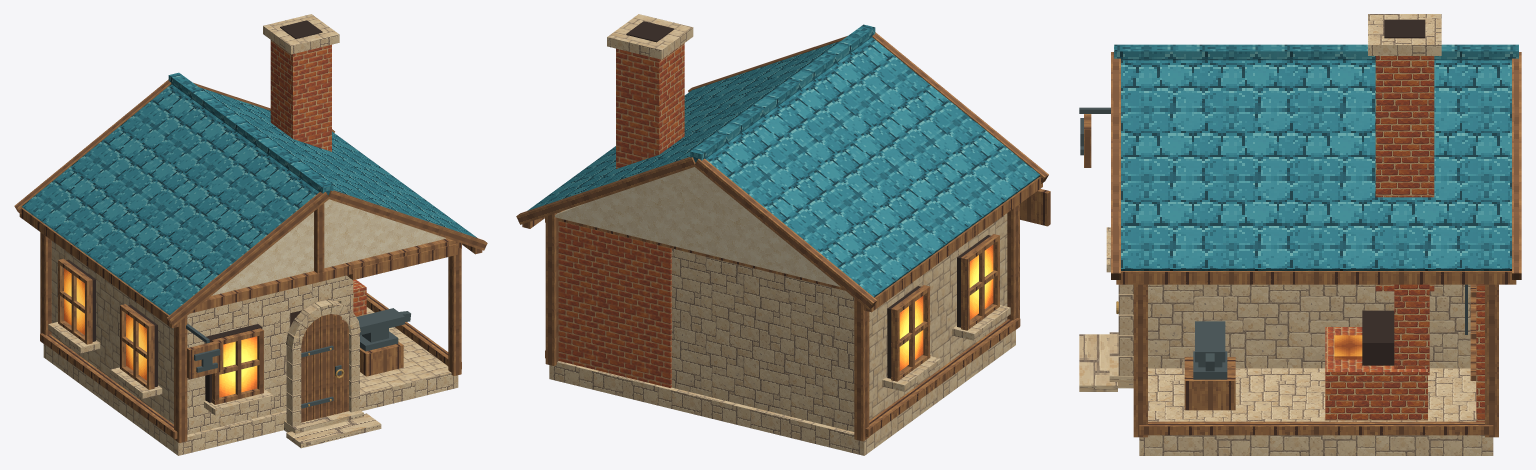
3 views of the same model, side by side, from view 1: azimuth 30°, elevation 25°; view 2: azimuth 150°, elevation 25°; view 3: azimuth 270°, elevation 25° (orthographic). The views are drawn at different scales.
Visible parts, largest first — view 1: Painted tiled roof, Smithy stone hall, Dressed limestone footing, Infilled gable, Painted tiled roof.001, Brick flue, Gable collar, Tile ridge cap, Oak bargeboard, Shop side timber band, Eave fascia, Oak bargeboard.002 (+27 smaller); view 2: Painted tiled roof, Smithy stone hall, Smithy open bay back, Infilled gable.001, Dressed limestone footing, Painted tiled roof.001, Brick flue, Tile ridge cap, Oak bargeboard.001, Shop side timber band, Eave fascia, Oak bargeboard.003 (+15 smaller); view 3: Painted tiled roof.001, Smithy stone hall, Dressed limestone footing, Brick flue, Forge firebrick base, Tile ridge cap, Eave fascia.001, Shop side timber band.002, Forge chimney breast, Chimney cap, Oak bargeboard.002, Oak bargeboard.003 (+11 smaller).
Boxes of the visible parts, <box> form: Painted tiled roof: <box>22,84,319,314</box>; Smithy stone hall: <box>51,240,353,434</box>; Dressed limestone footing: <box>43,307,458,455</box>; Infilled gable: <box>211,199,445,295</box>; Painted tiled roof.001: <box>199,87,476,237</box>; Brick flue: <box>270,40,331,151</box>; Gable collar: <box>190,238,460,313</box>; Tile ridge cap: <box>168,72,333,195</box>; Oak bargeboard: <box>167,192,329,325</box>; Shop side timber band: <box>40,333,177,439</box>; Eave fascia: <box>19,208,178,328</box>; Oak bargeboard.002: <box>328,190,487,250</box>; Painted tiled roof: <box>706,37,1039,297</box>; Smithy stone hall: <box>671,213,1007,431</box>; Smithy open bay back: <box>558,221,671,387</box>; Infilled gable.001: <box>555,167,840,286</box>; Dressed limestone footing: <box>549,330,1015,455</box>; Painted tiled roof.001: <box>527,41,840,210</box>; Brick flue: <box>616,43,684,168</box>; Tile ridge cap: <box>690,24,875,162</box>; Oak bargeboard.001: <box>694,158,877,309</box>; Shop side timber band: <box>865,318,1020,436</box>; Eave fascia: <box>863,177,1042,312</box>; Oak bargeboard.003: <box>516,157,695,224</box>; Painted tiled roof.001: <box>1121,60,1511,270</box>; Smithy stone hall: <box>1148,284,1470,368</box>; Dressed limestone footing: <box>1139,368,1493,455</box>; Brick flue: <box>1375,56,1434,291</box>; Forge firebrick base: <box>1325,327,1427,420</box>; Tile ridge cap: <box>1114,44,1518,60</box>; Eave fascia.001: <box>1116,271,1516,284</box>; Shop side timber band.002: <box>1139,421,1493,435</box>; Forge chimney breast: <box>1394,284,1429,375</box>; Chimney cap: <box>1368,14,1441,55</box>; Oak bargeboard.002: <box>1111,55,1120,279</box>; Oak bargeboard.003: <box>1512,55,1521,279</box>.
Size of the model in its own units: 6.8 by 6.1 by 6.25.
13 materials, 9 textured.
